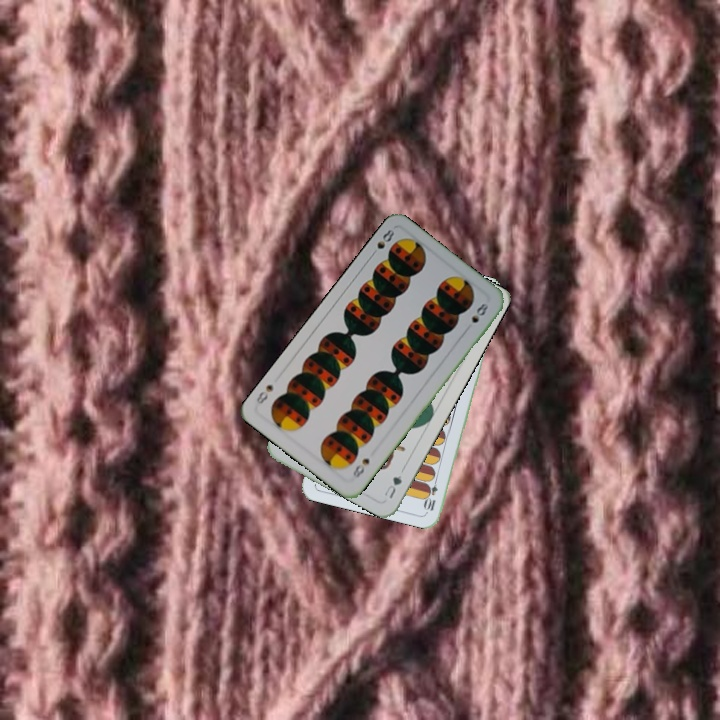E10: (422, 473, 440, 513)
GU: (379, 471, 404, 501)
S8: (367, 225, 397, 260), (349, 454, 372, 481)
